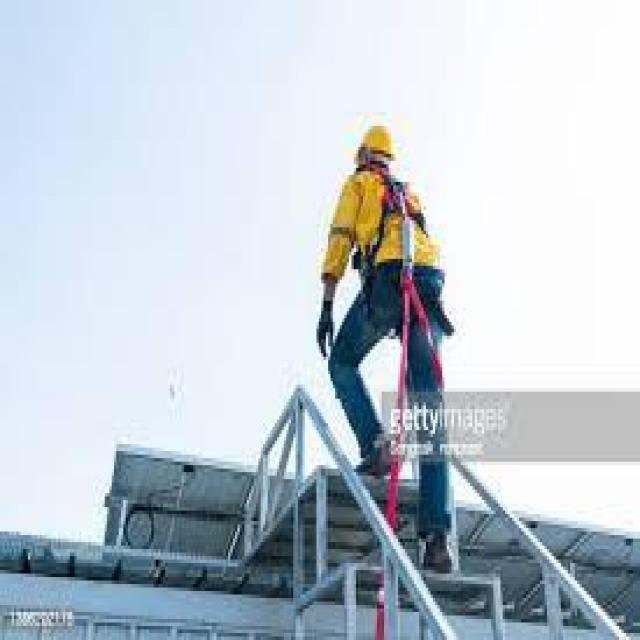Belt: (349, 156, 456, 338)
